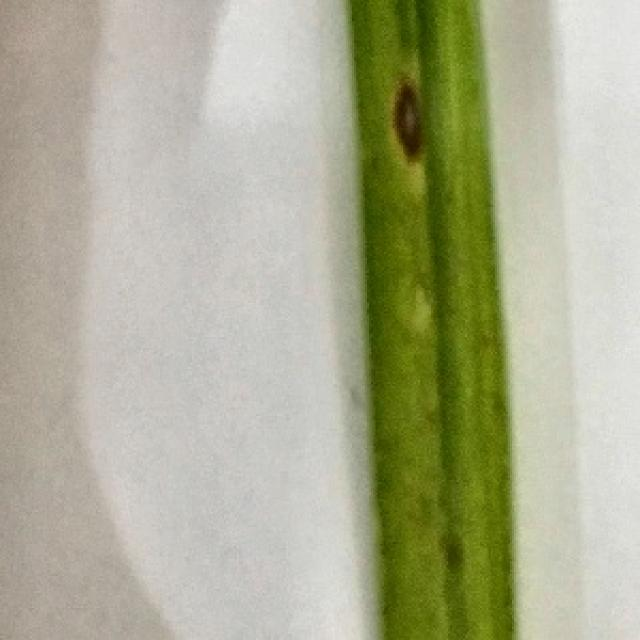Leaf_Blast: (378, 34, 443, 173)
